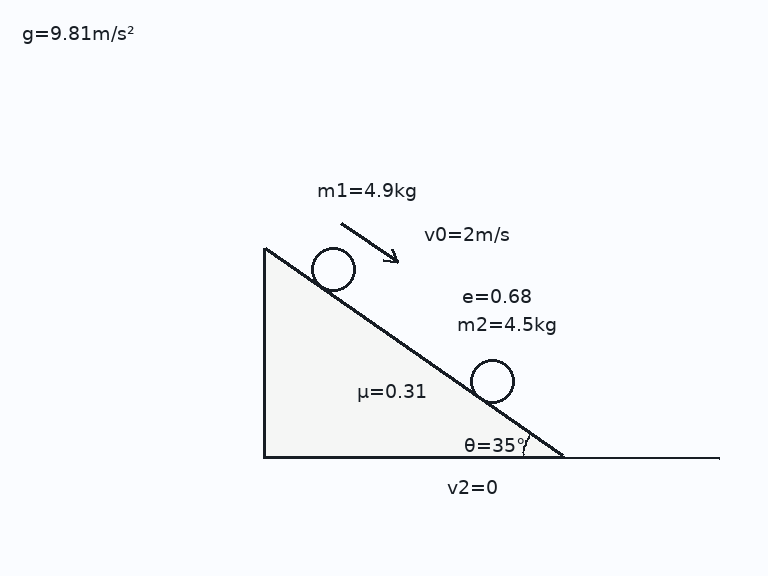ball: (309, 245, 357, 293), (468, 357, 516, 405)
ramp: (263, 246, 565, 459)
